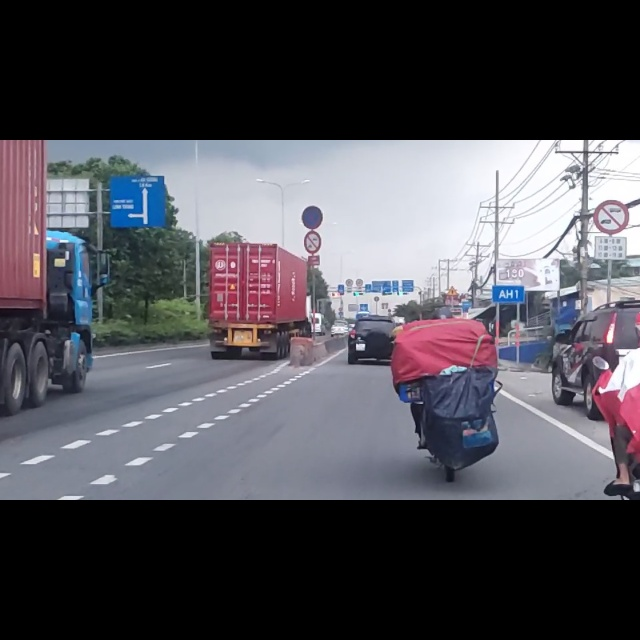bien_nguy_hiem: (593, 105, 628, 168), (301, 116, 323, 157), (303, 160, 322, 201)
